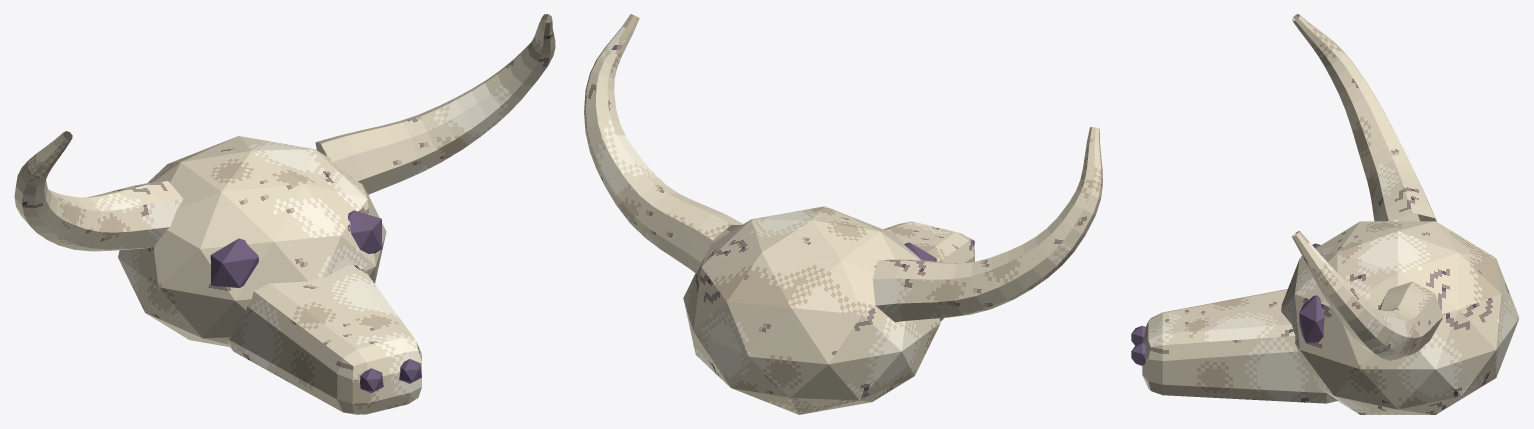
File: desert_skull.glb
3 renders of one model, left to right at view 1: azimuth 30°, elevation 25°; view 2: azimuth 150°, elevation 25°; view 3: azimuth 270°, elevation 25°, orthographic. The views are drawn at different scales.
Parts seen in each view (by area): view 1: Skull, Holes; view 2: Skull; view 3: Skull, Holes.
Part boxes in pixels (x1,y1,x2,y2): Skull: [14, 14, 555, 414]; Holes: [210, 210, 421, 393]; Skull: [584, 14, 1102, 414]; Skull: [1142, 14, 1519, 414]; Holes: [1131, 243, 1324, 365].
Size of the model in its own units: 2.99 by 1.64 by 2.05.
Materials: 2 (1 with a texture image).
